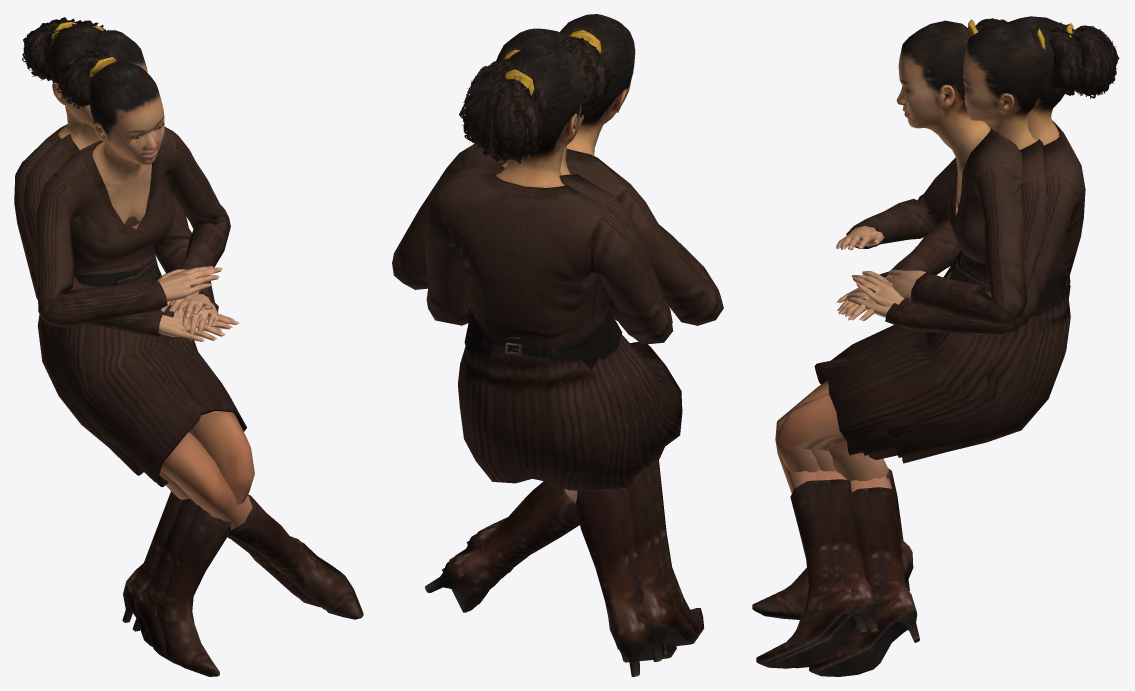
The model's file is cliente-luiza.glb.
3 views of the same model, side by side, from view 1: azimuth 30°, elevation 25°; view 2: azimuth 150°, elevation 25°; view 3: azimuth 270°, elevation 25° (orthographic). The views are drawn at different scales.
Visible parts, largest first — view 1: pose_2, pose_1, pose_0; view 2: pose_1, pose_0, pose_2; view 3: pose_1, pose_2, pose_0.
Boxes of the visible parts, box(x1,y1,x2,y2) form: pose_2: box(23, 20, 363, 676); pose_1: box(35, 47, 321, 646); pose_0: box(14, 17, 334, 664); pose_1: box(392, 14, 723, 676); pose_0: box(424, 43, 698, 661); pose_2: box(440, 28, 704, 654); pose_1: box(809, 18, 1070, 676); pose_2: box(752, 22, 1085, 668); pose_0: box(774, 16, 1119, 668).
Size of the model in its own units: 0.6463 by 1.38 by 0.7705.
3 materials, 3 textured.
